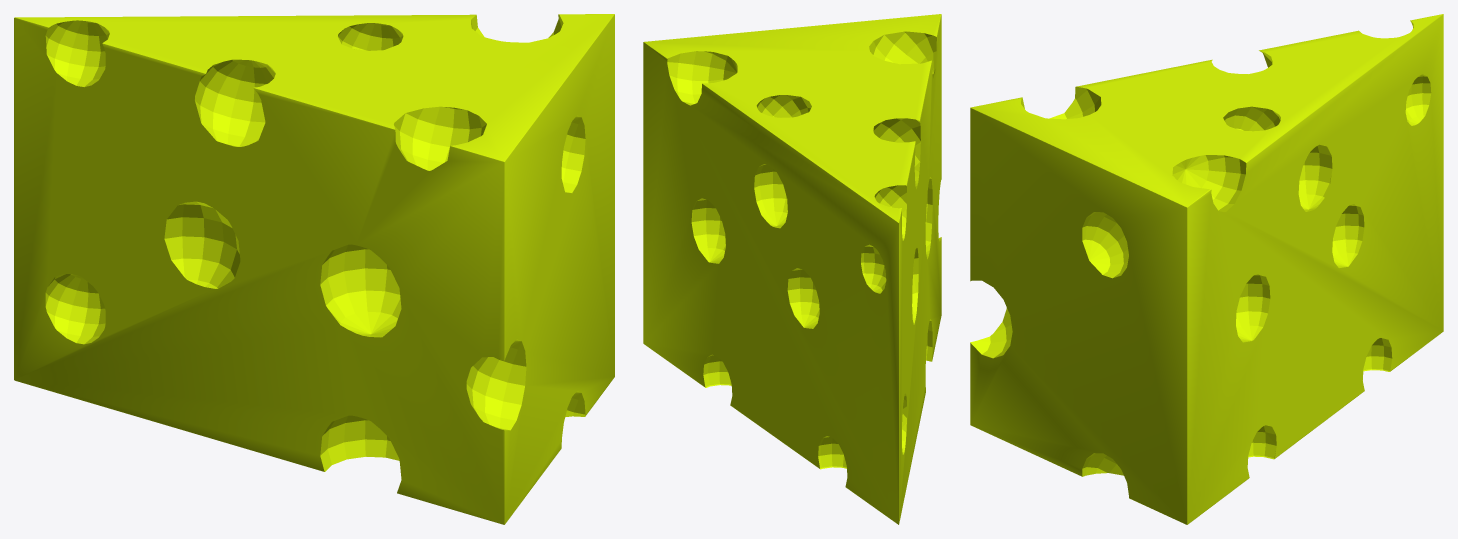
File: Cheese.obj
3 renders of one model, left to right at view 1: azimuth 30°, elevation 25°; view 2: azimuth 150°, elevation 25°; view 3: azimuth 270°, elevation 25°, orthographic. The views are drawn at different scales.
Parts seen in each view (by area): view 1: Box20179; view 2: Box20179; view 3: Box20179.
Boxes of the visible parts, <box> form: Box20179: <box>14,14,614,524</box>; Box20179: <box>643,14,941,524</box>; Box20179: <box>970,14,1443,524</box>.
Bounding box in the file's own units: 647 × 495 × 668.
